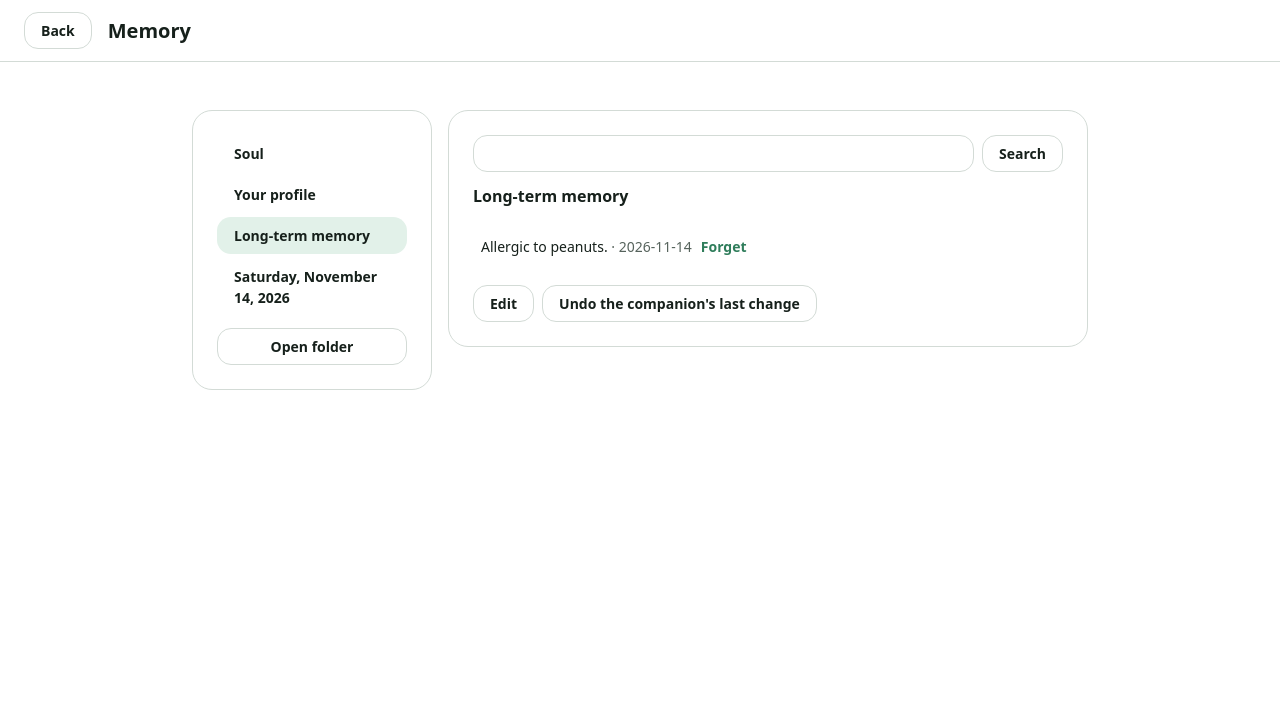
it: MemoryView › asks before undoing a change the user has edited since
The width and height of the screenshot is (1280, 720).
Click the button "Undo the companion's last change". click: (680, 304)
box: [542, 285, 817, 322]
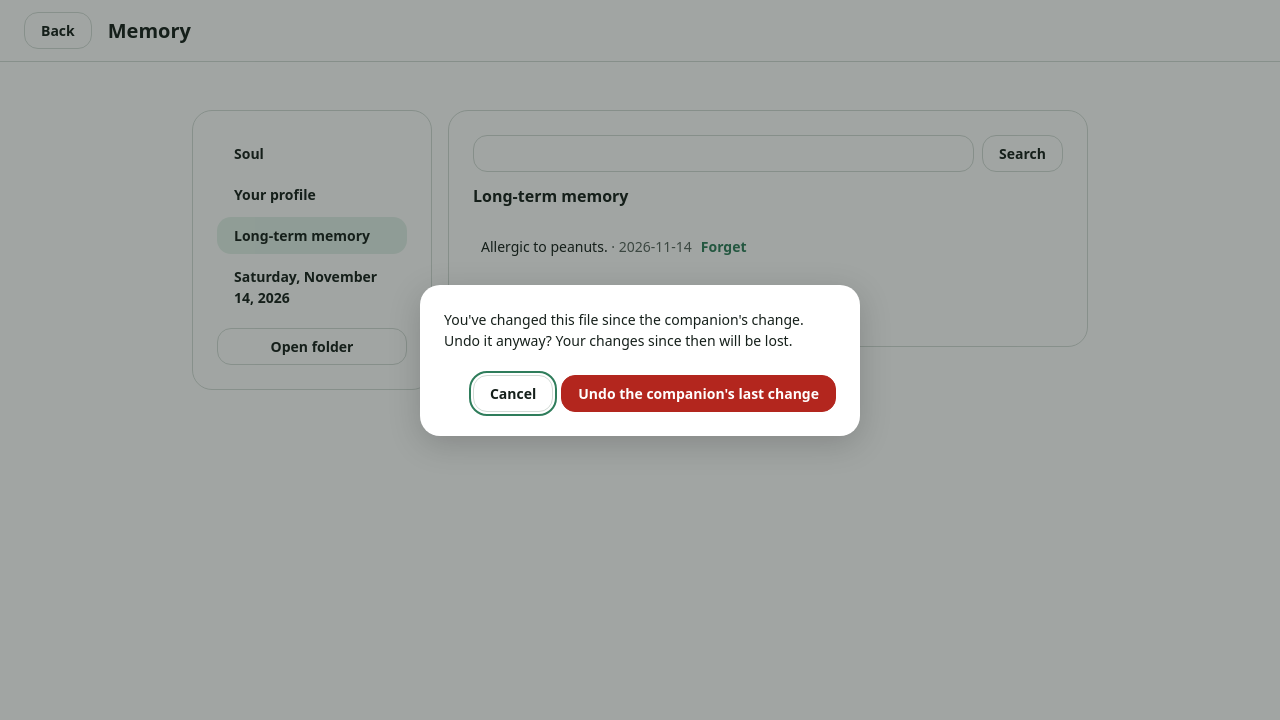
Expected: the dialog shows "You've changed this file", [444, 310, 804, 350]
Click the button "Undo the companion's last change". click: (699, 393)
box: [561, 374, 836, 412]
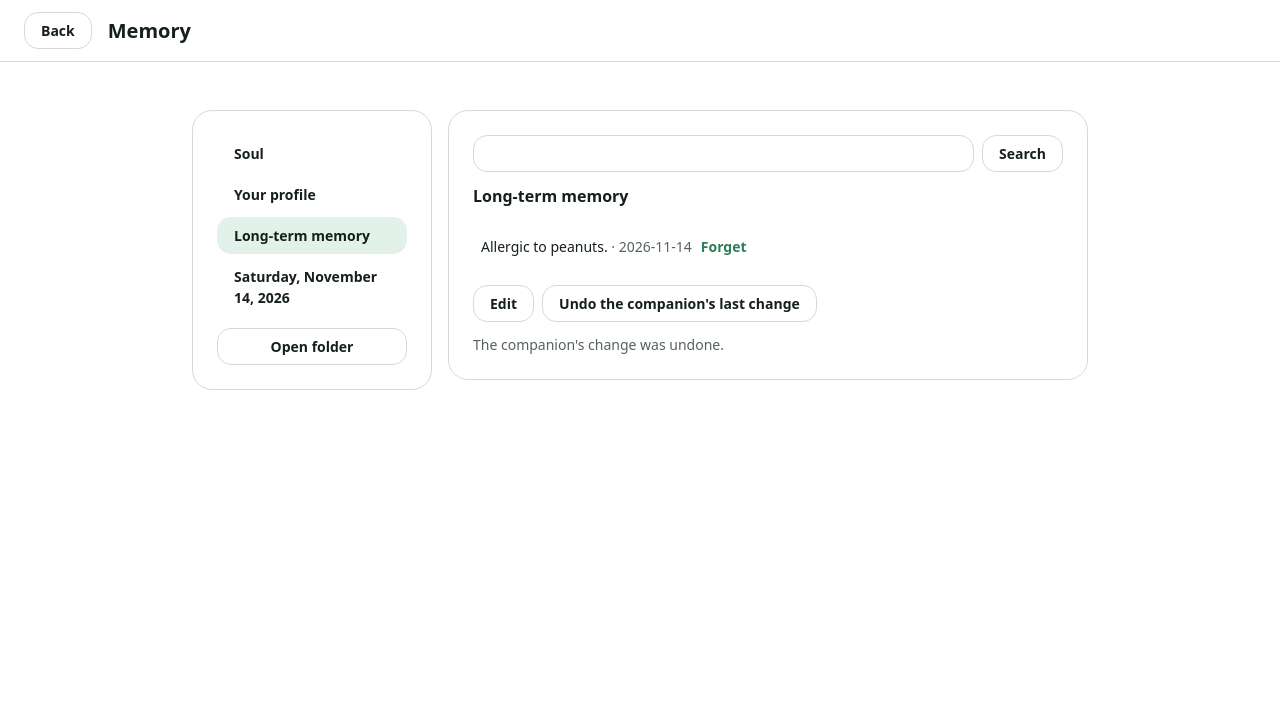
Expected: the message shows "undone", [473, 335, 724, 354]
